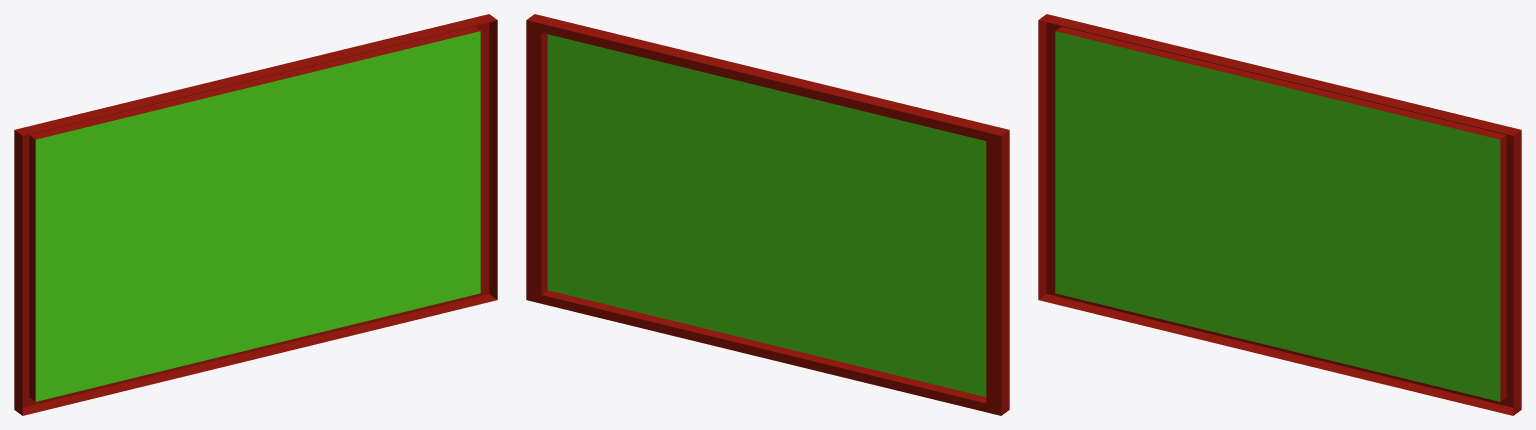
Rendered from Cork Board.fbx.
3 renders of one model, left to right at view 1: azimuth 30°, elevation 25°; view 2: azimuth 150°, elevation 25°; view 3: azimuth 330°, elevation 25°, orthographic.
Visible parts, largest first — view 1: Cork Board; view 2: Cork Board; view 3: Cork Board.
Part boxes in pixels (<box>): Cork Board: <box>14,14,497,415</box>; Cork Board: <box>526,14,1009,415</box>; Cork Board: <box>1038,14,1521,415</box>.
Bounding box in the file's own units: 128 × 72.18 × 3.9.
